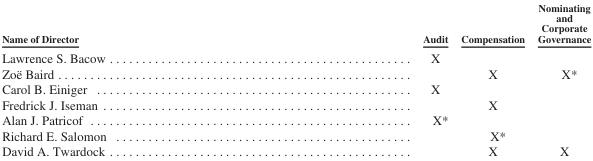table: (1, 0, 590, 158)
table column: (1, 0, 263, 158), (263, 0, 453, 158), (453, 0, 530, 158), (530, 0, 590, 158)
table column header: (1, 0, 590, 47)
table row: (1, 0, 590, 47), (1, 47, 590, 65), (1, 65, 590, 81), (1, 96, 590, 112), (1, 127, 590, 143), (1, 81, 590, 96), (1, 112, 590, 127), (1, 143, 590, 158)
